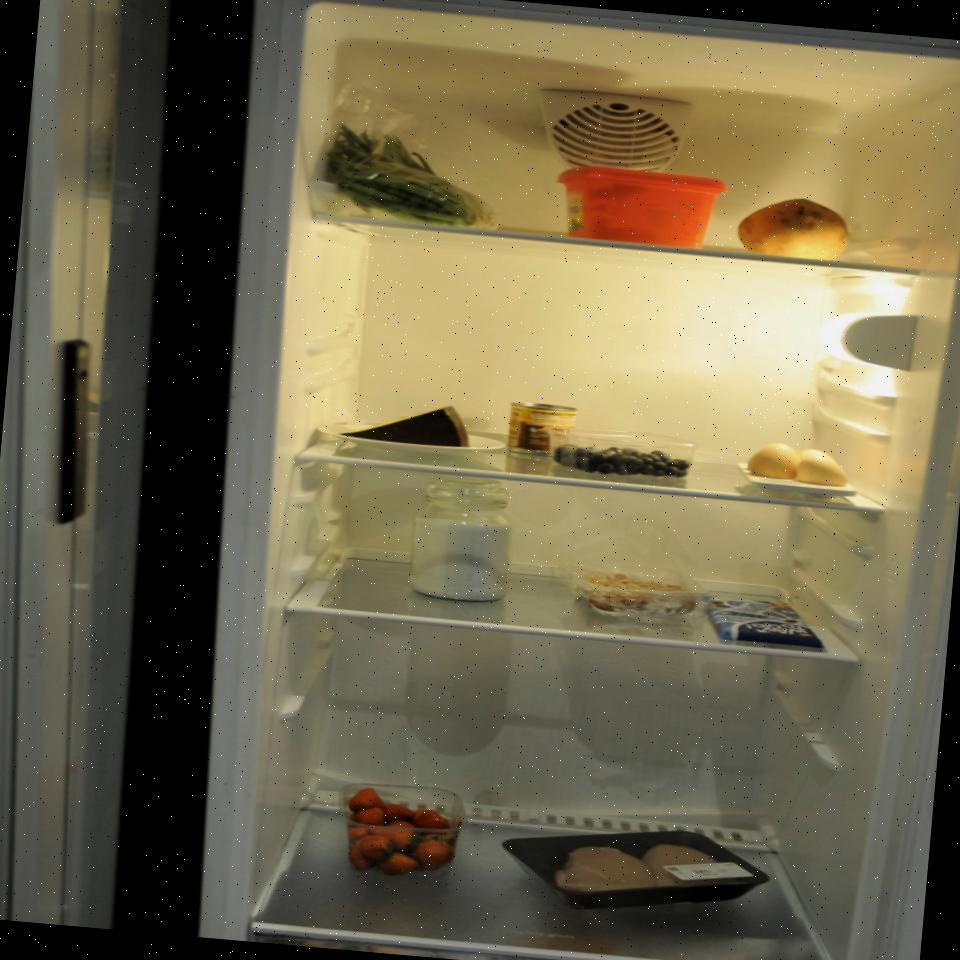Carne pollo: (549, 827, 744, 915)
Huevos: (745, 438, 853, 496)
Mantequilla: (550, 160, 730, 254)
